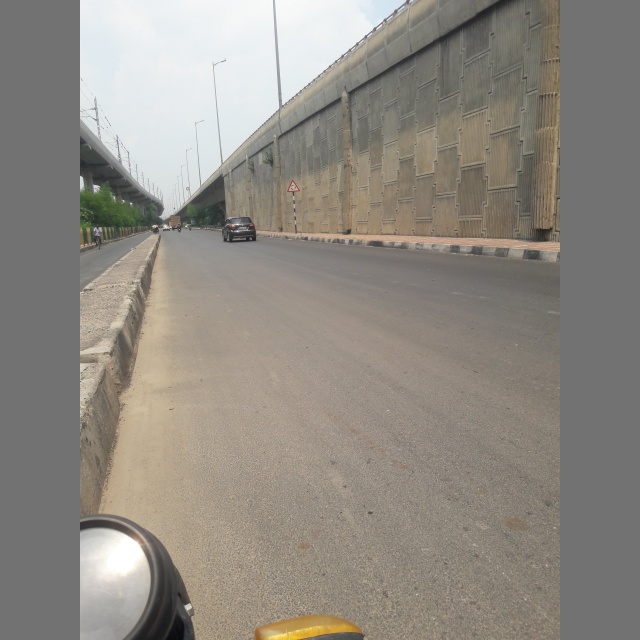Men_at_Work: (132, 83, 578, 470)
